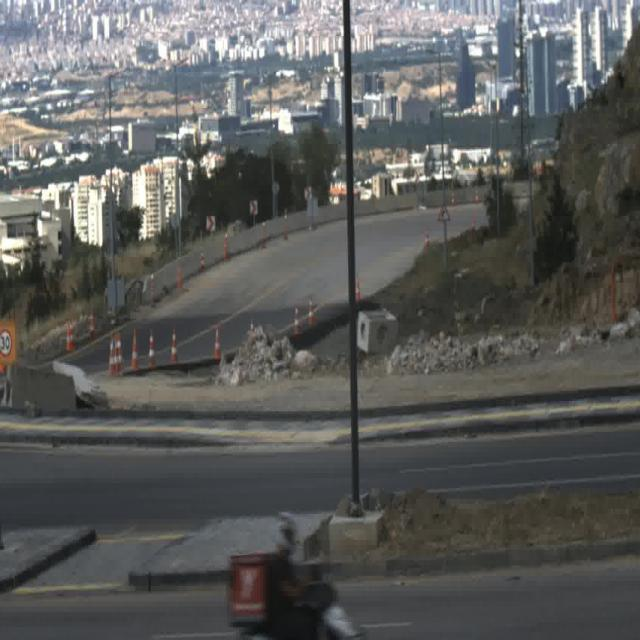Motorcycle: (228, 504, 350, 640)
